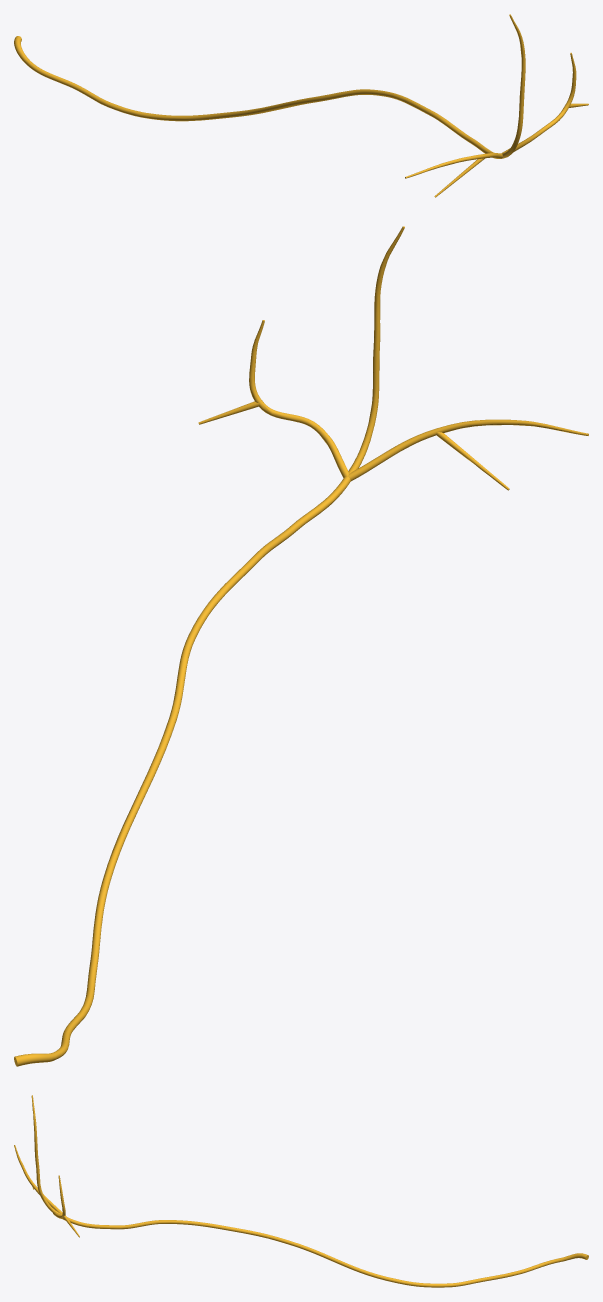
File: nervoso-ophthalmic-nerve-l.glb
3 views of the same model, one above another, from view 1: azimuth 30°, elevation 25°; view 2: azimuth 150°, elevation 25°; view 3: azimuth 270°, elevation 25° (orthographic). The views are drawn at different scales.
Parts seen in each view (by area): view 1: Ophthalmic nerve.l; view 2: Ophthalmic nerve.l; view 3: Ophthalmic nerve.l.
Boxes of the visible parts, left/top/right/bottom form: Ophthalmic nerve.l: left=14, top=14, right=588, bottom=197; Ophthalmic nerve.l: left=14, top=226, right=588, bottom=1066; Ophthalmic nerve.l: left=14, top=1095, right=588, bottom=1287.
Size of the model in its own units: 0.0293 by 0.036 by 0.0861.
